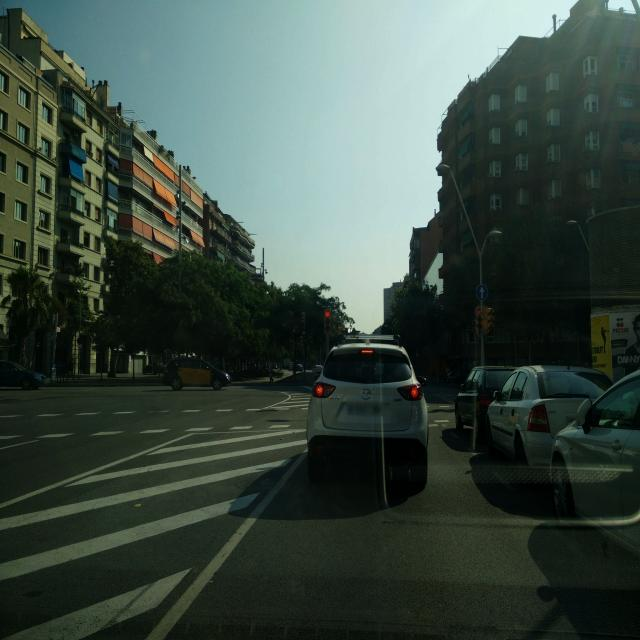car: (548, 356, 640, 602), (306, 334, 429, 486), (484, 364, 609, 473), (454, 364, 520, 440), (161, 356, 232, 391), (0, 360, 46, 391), (142, 362, 166, 375), (294, 363, 304, 374), (314, 363, 324, 372)
